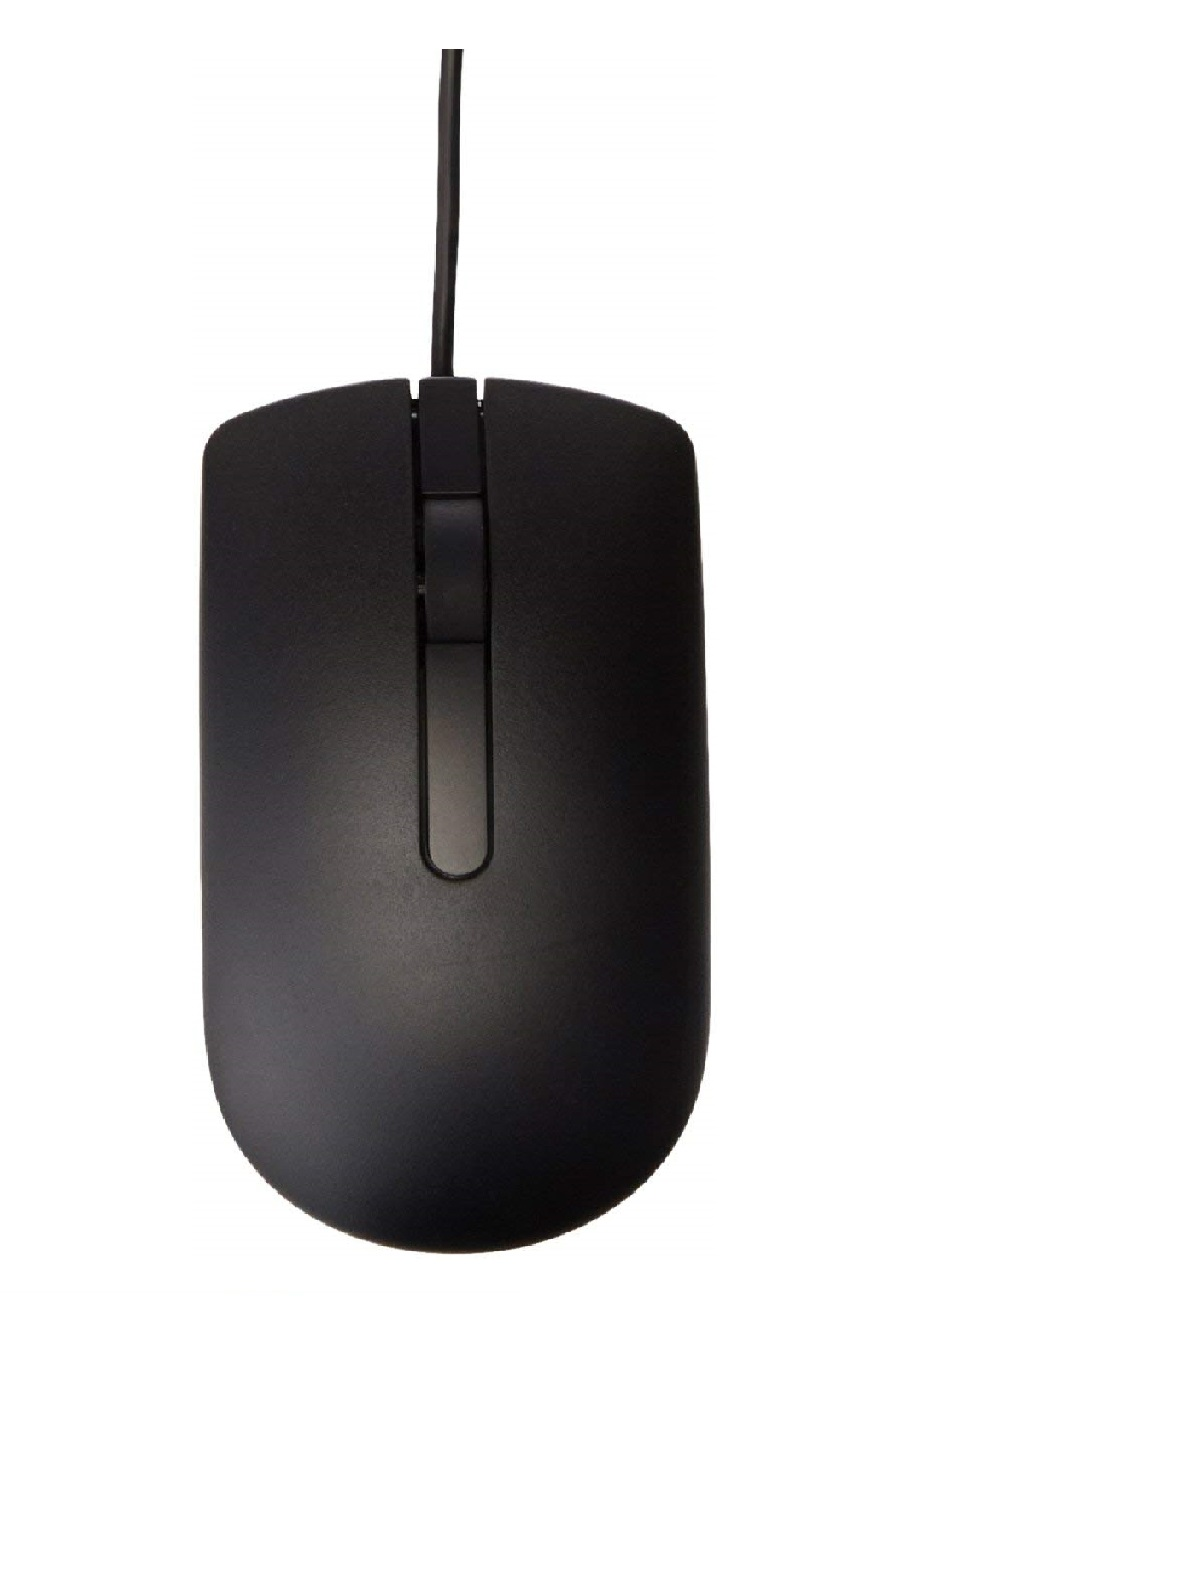dell-mouse-ms116: (183, 33, 740, 1268)
